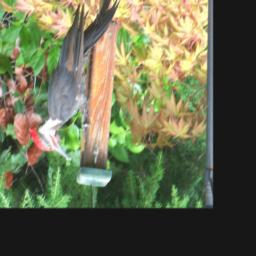Woodpecker: (28, 0, 121, 161)
